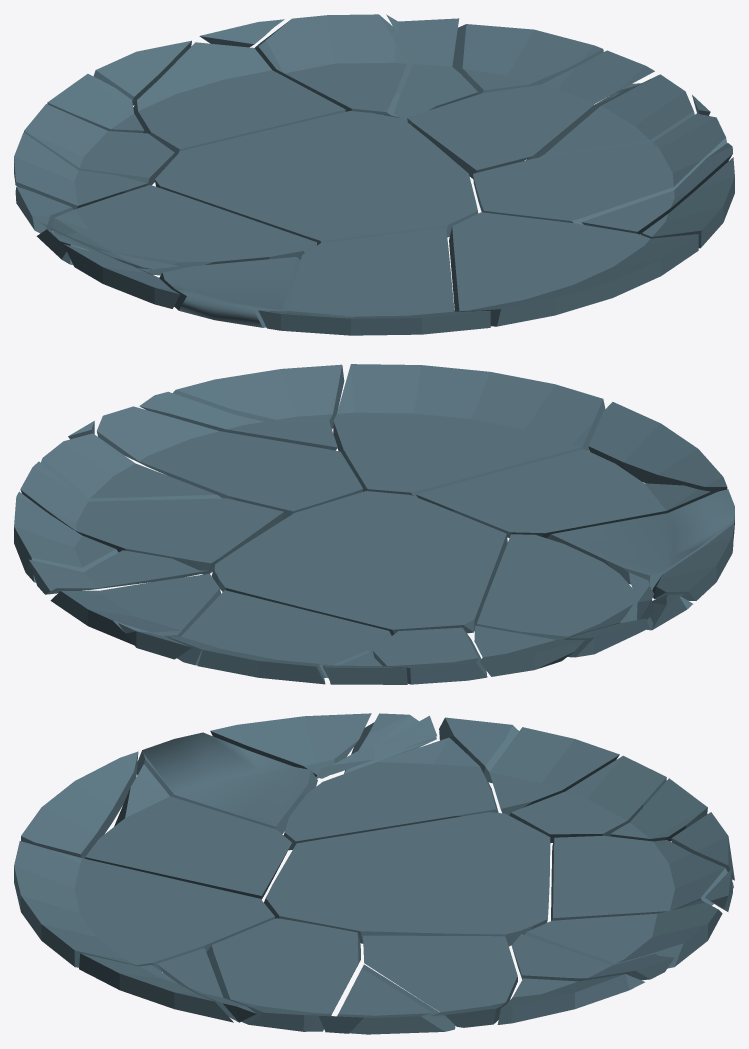
Rendered from BrokenPlate.fbx.
3 renders of one model, top to bottom at view 1: azimuth 30°, elevation 25°; view 2: azimuth 150°, elevation 25°; view 3: azimuth 270°, elevation 25°, orthographic.
Parts seen in each view (by area): view 1: BrokenPlate_cell.022, BrokenPlate_cell.028, BrokenPlate_cell.023, BrokenPlate_cell.050, BrokenPlate_cell.033, BrokenPlate_cell.049, BrokenPlate_cell.013, BrokenPlate_cell.005, BrokenPlate_cell.011, BrokenPlate_cell.003, BrokenPlate_cell.032, BrokenPlate_cell.043 (+12 smaller); view 2: BrokenPlate_cell.022, BrokenPlate_cell.028, BrokenPlate_cell.023, BrokenPlate_cell.013, BrokenPlate_cell.049, BrokenPlate_cell.033, BrokenPlate_cell.050, BrokenPlate_cell.003, BrokenPlate_cell.005, BrokenPlate_cell.009, BrokenPlate_cell.034, BrokenPlate_cell.032 (+12 smaller); view 3: BrokenPlate_cell.022, BrokenPlate_cell.028, BrokenPlate_cell.013, BrokenPlate_cell.033, BrokenPlate_cell.023, BrokenPlate_cell.050, BrokenPlate_cell.049, BrokenPlate_cell.003, BrokenPlate_cell.005, BrokenPlate_cell.043, BrokenPlate_cell.016, BrokenPlate_cell.034 (+13 smaller).
Part boxes in pixels (x1,y1,x2,y2): BrokenPlate_cell.022: [155, 111, 478, 245]; BrokenPlate_cell.028: [449, 212, 698, 326]; BrokenPlate_cell.023: [473, 113, 726, 224]; BrokenPlate_cell.050: [133, 42, 345, 158]; BrokenPlate_cell.033: [53, 185, 316, 275]; BrokenPlate_cell.049: [407, 50, 654, 178]; BrokenPlate_cell.013: [269, 227, 454, 316]; BrokenPlate_cell.005: [254, 14, 412, 117]; BrokenPlate_cell.011: [452, 24, 603, 95]; BrokenPlate_cell.003: [159, 257, 300, 327]; BrokenPlate_cell.032: [526, 74, 694, 160]; BrokenPlate_cell.043: [24, 104, 174, 185]; BrokenPlate_cell.022: [211, 491, 507, 635]; BrokenPlate_cell.028: [333, 364, 605, 497]; BrokenPlate_cell.023: [97, 406, 362, 519]; BrokenPlate_cell.013: [416, 449, 710, 538]; BrokenPlate_cell.049: [20, 461, 283, 574]; BrokenPlate_cell.033: [476, 534, 637, 639]; BrokenPlate_cell.050: [168, 590, 391, 677]; BrokenPlate_cell.003: [547, 489, 734, 589]; BrokenPlate_cell.005: [50, 573, 220, 645]; BrokenPlate_cell.009: [173, 364, 344, 429]; BrokenPlate_cell.034: [588, 402, 727, 496]; BrokenPlate_cell.032: [40, 433, 221, 501]; BrokenPlate_cell.022: [264, 812, 550, 946]; BrokenPlate_cell.028: [14, 841, 274, 971]; BrokenPlate_cell.013: [85, 764, 291, 899]; BrokenPlate_cell.033: [283, 737, 498, 850]; BrokenPlate_cell.023: [206, 918, 360, 1031]; BrokenPlate_cell.050: [551, 835, 733, 920]; BrokenPlate_cell.049: [363, 935, 517, 1027]; BrokenPlate_cell.003: [136, 732, 317, 834]; BrokenPlate_cell.005: [524, 900, 722, 968]; BrokenPlate_cell.043: [509, 755, 666, 843]; BrokenPlate_cell.016: [489, 727, 619, 815]; BrokenPlate_cell.034: [21, 751, 138, 858].
Size of the model in its own units: 30.45 by 1.61 by 30.46.
